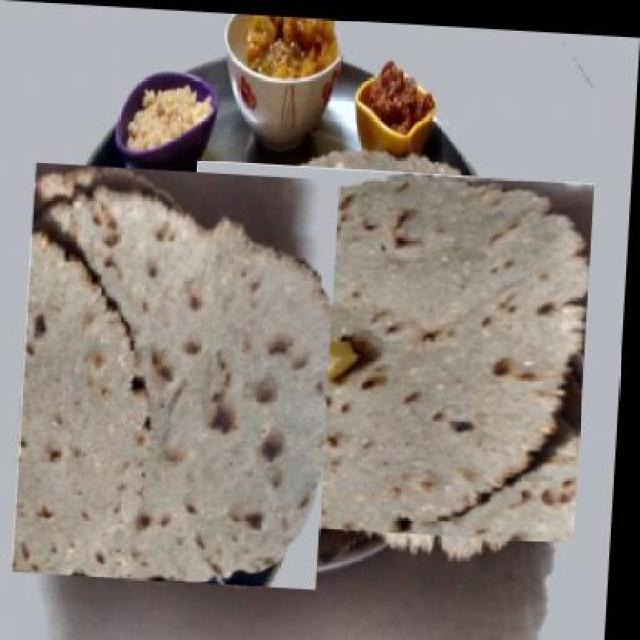chapati: (191, 148, 589, 547), (18, 161, 344, 587)
